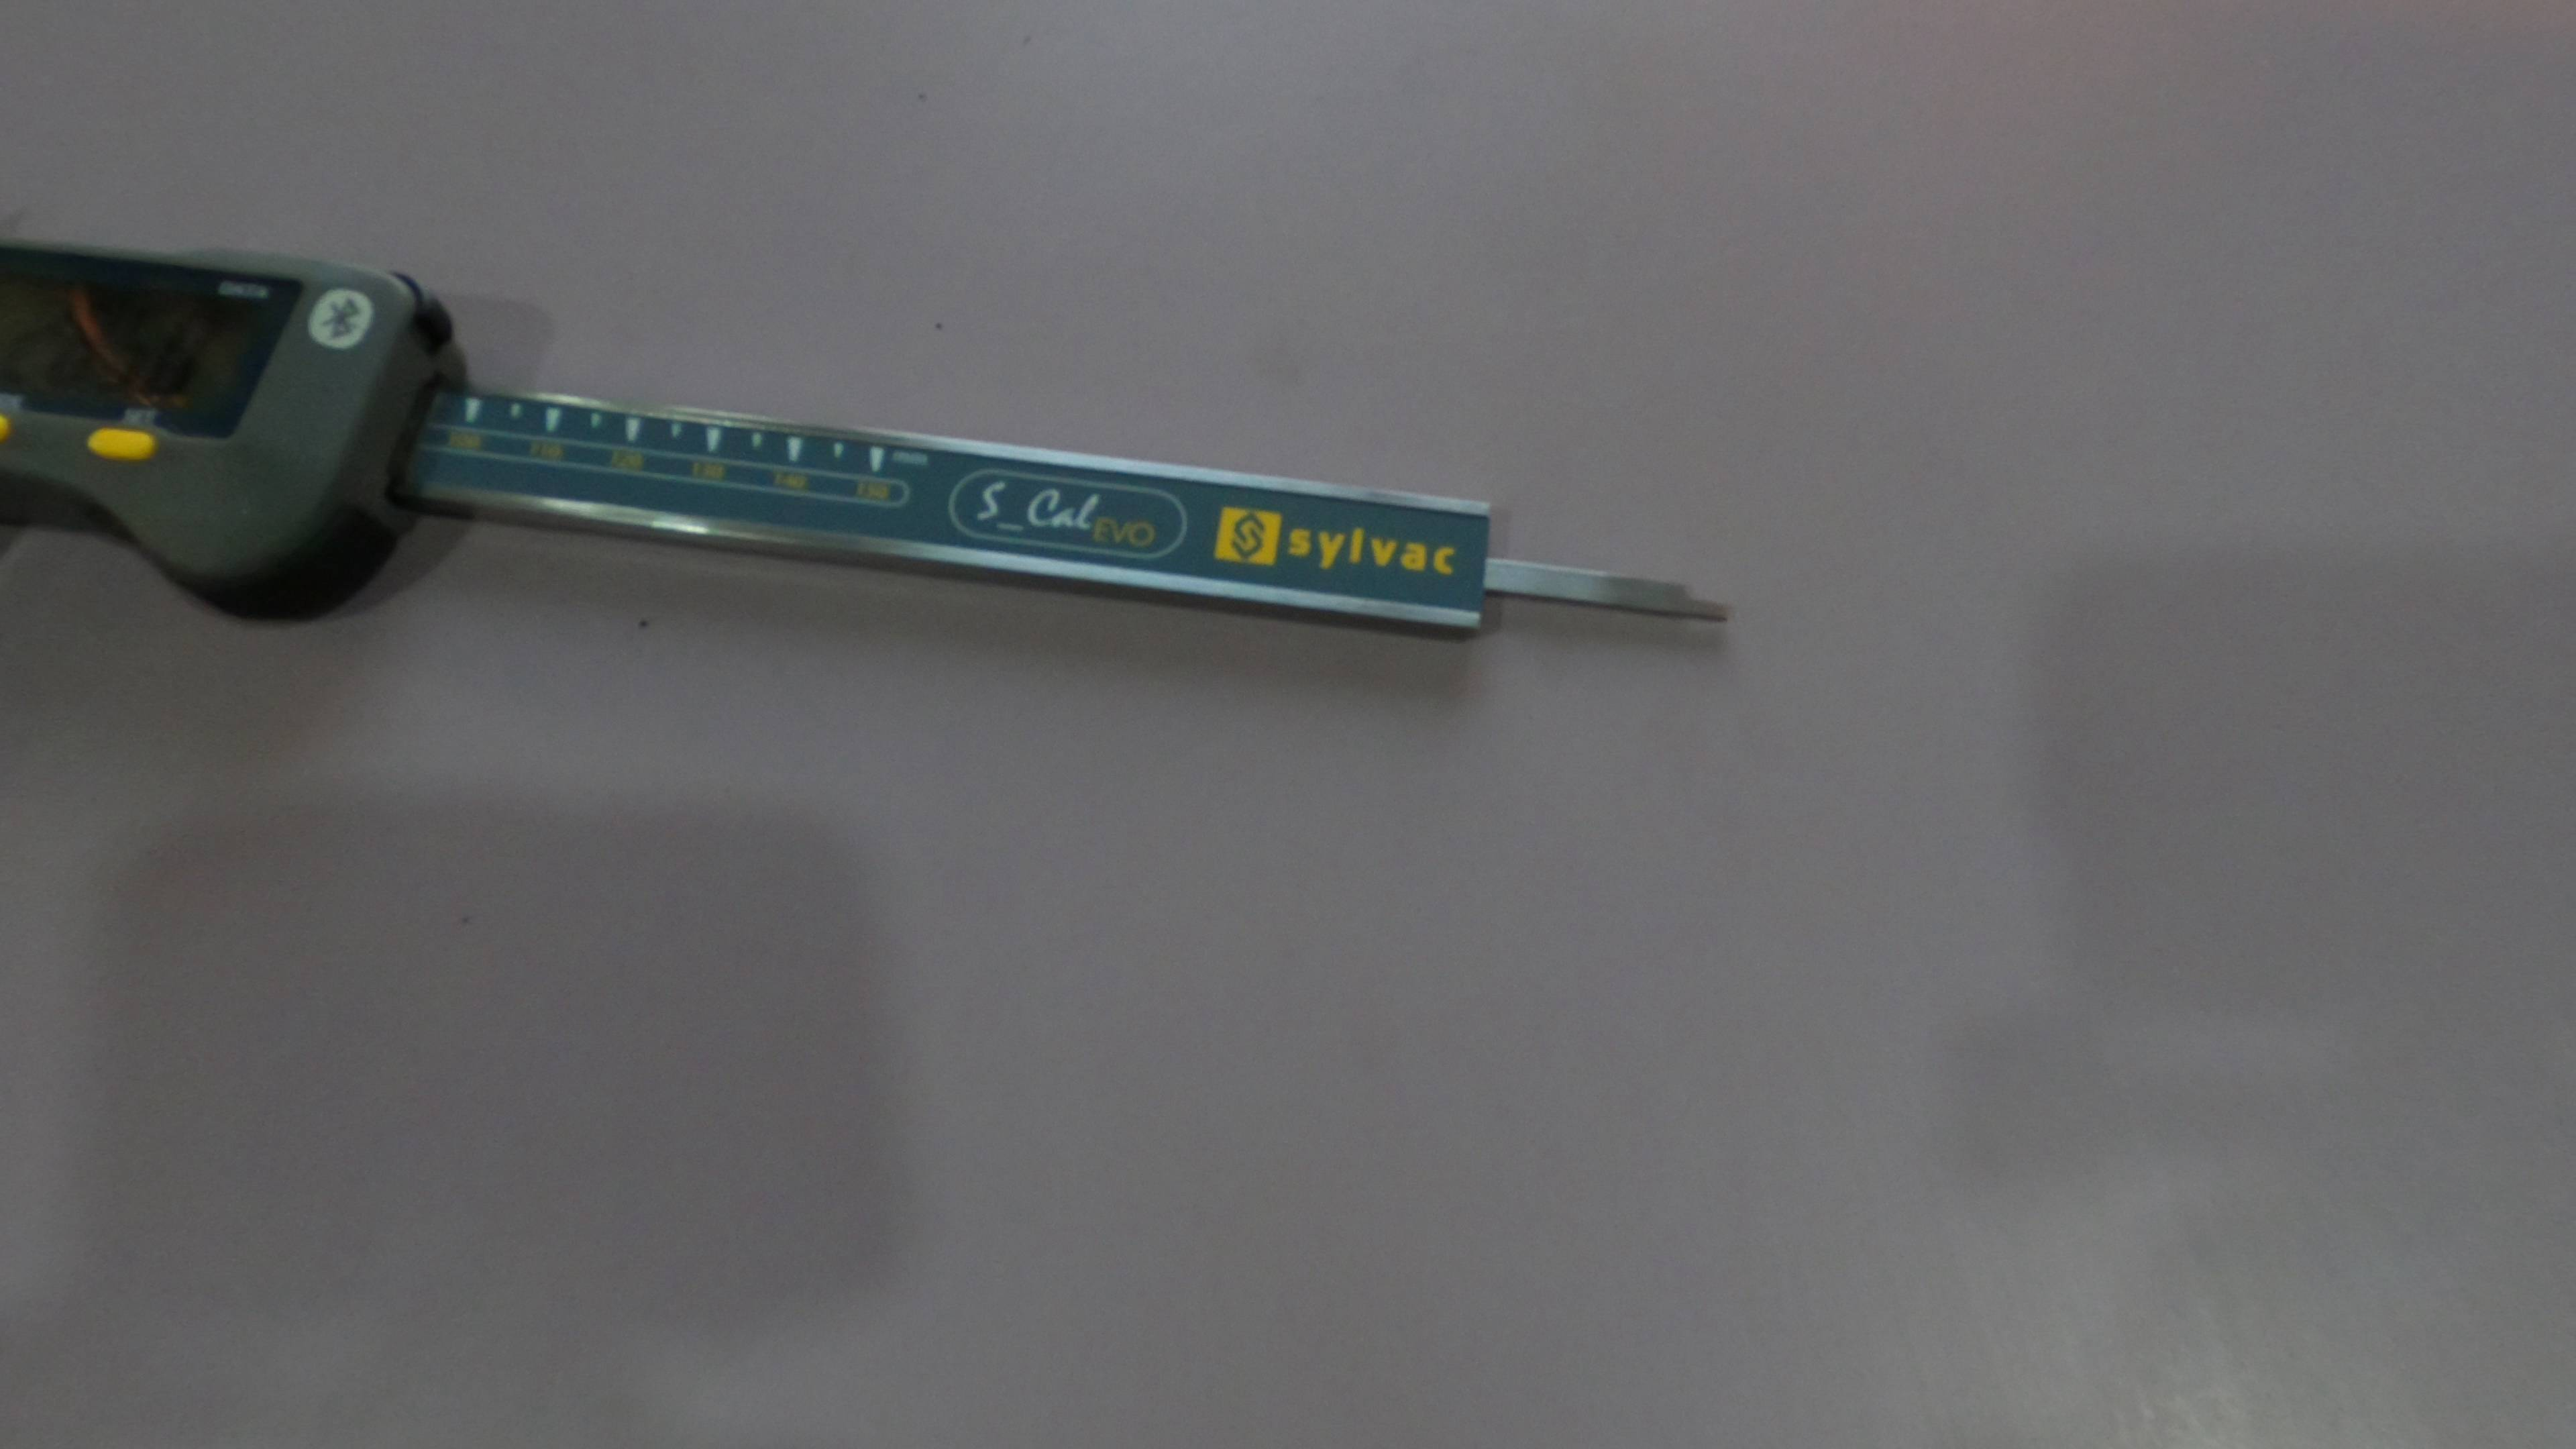vernier_caliper: (4, 195, 1760, 669)
